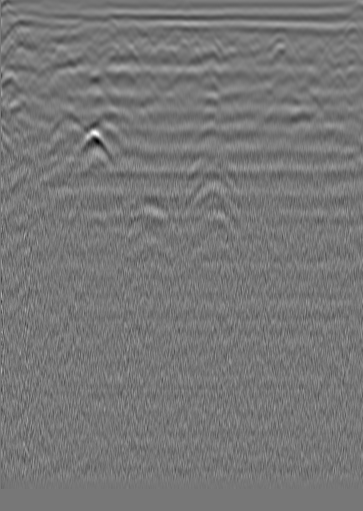가스: (75, 127, 113, 159)
상수: (318, 39, 338, 59)
오수: (33, 30, 59, 55)
우수: (186, 34, 206, 54)
